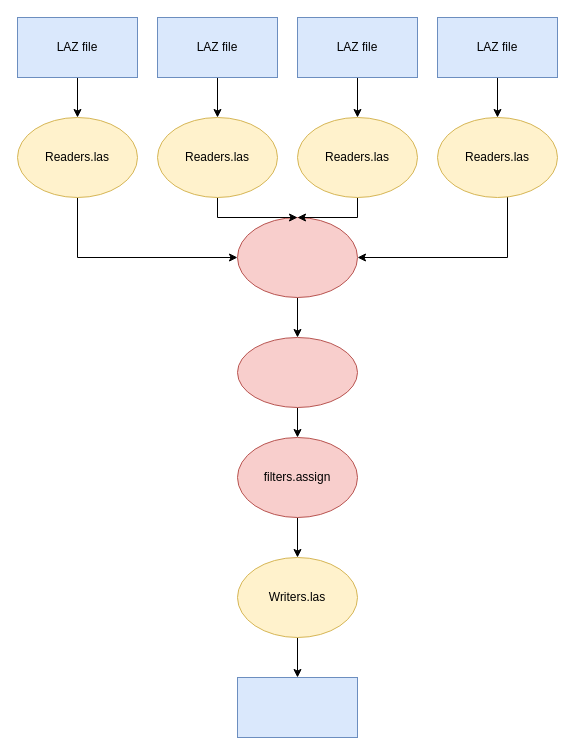
The diagram is 575 pixels wide and 755 high, and some of its shapes have lost their labels. The shapes that lost their labels are listed below. From the top down, each one's centre as x and y in pixels, then its label:
At pixel 297 257: "filters.merge".
At pixel 297 372: "filters.crop".
At pixel 297 707: "Result LAZ file".
